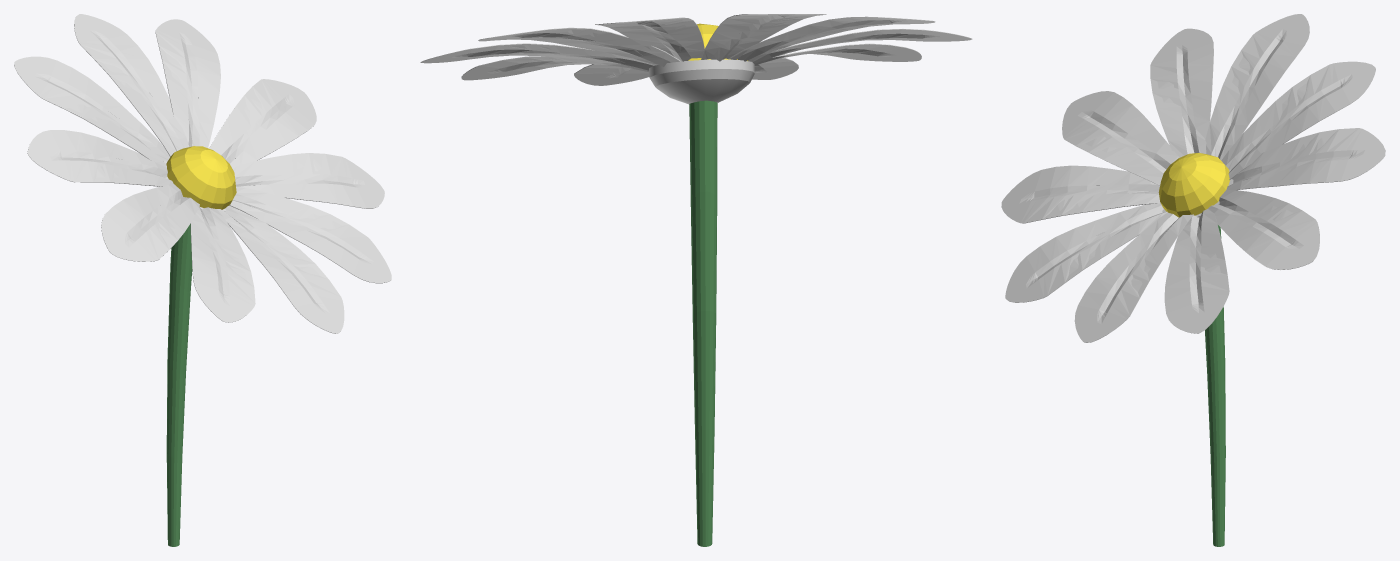
Rendered from Flower.gltf.
3 renders of one model, left to right at view 1: azimuth 30°, elevation 25°; view 2: azimuth 150°, elevation 25°; view 3: azimuth 270°, elevation 25°, orthographic. The views are drawn at different scales.
Visible parts, largest first — view 1: node-0; view 2: node-0; view 3: node-0.
Boxes of the visible parts, x1,y1,x2,y2 form: node-0: (14, 14, 391, 546); node-0: (420, 14, 972, 546); node-0: (1001, 14, 1385, 546).
Size of the model in its own units: 144 by 182 by 134.
